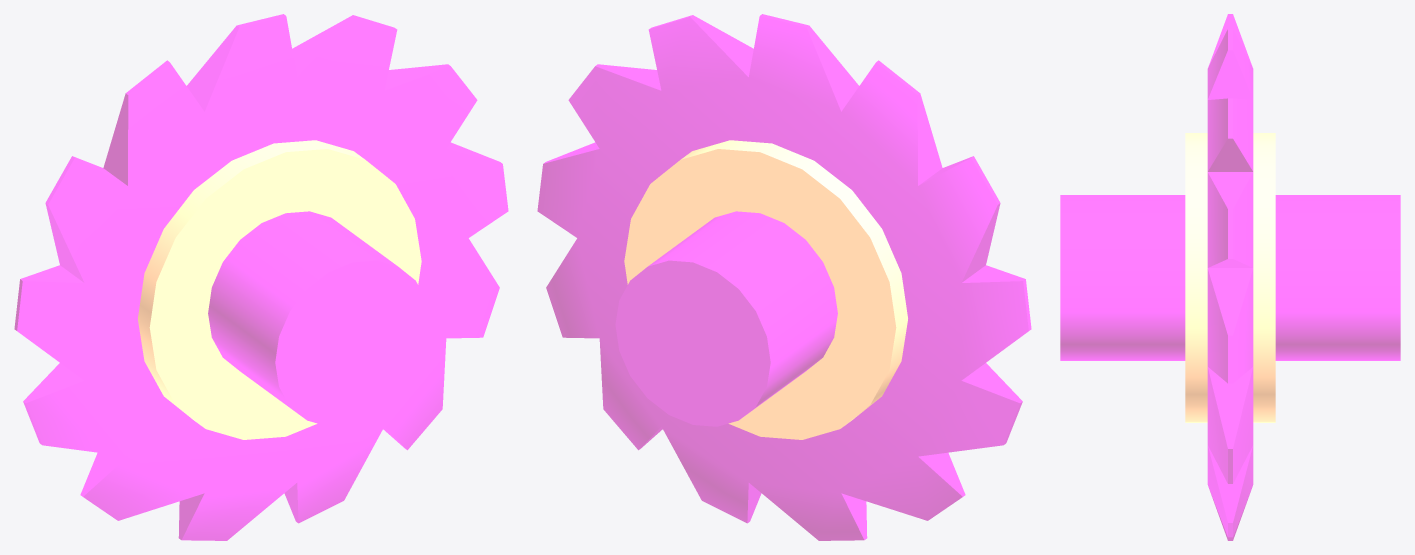
The model's file is SM_Saw.fbx.
3 renders of one model, left to right at view 1: azimuth 30°, elevation 25°; view 2: azimuth 150°, elevation 25°; view 3: azimuth 270°, elevation 25°, orthographic. The views are drawn at different scales.
Parts seen in each view (by area): view 1: Saw; view 2: Saw; view 3: Saw.
Part boxes in pixels (x1=…): Saw: x1=14, y1=14, x2=508, y2=540; Saw: x1=537, y1=14, x2=1031, y2=540; Saw: x1=1060, y1=14, x2=1400, y2=540.
Size of the model in its own units: 4.87 by 4.84 by 3.14.
